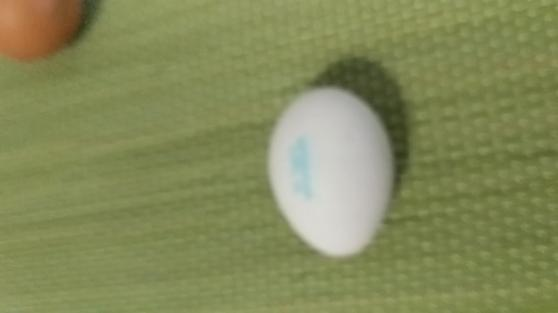egg: (265, 82, 403, 261)
